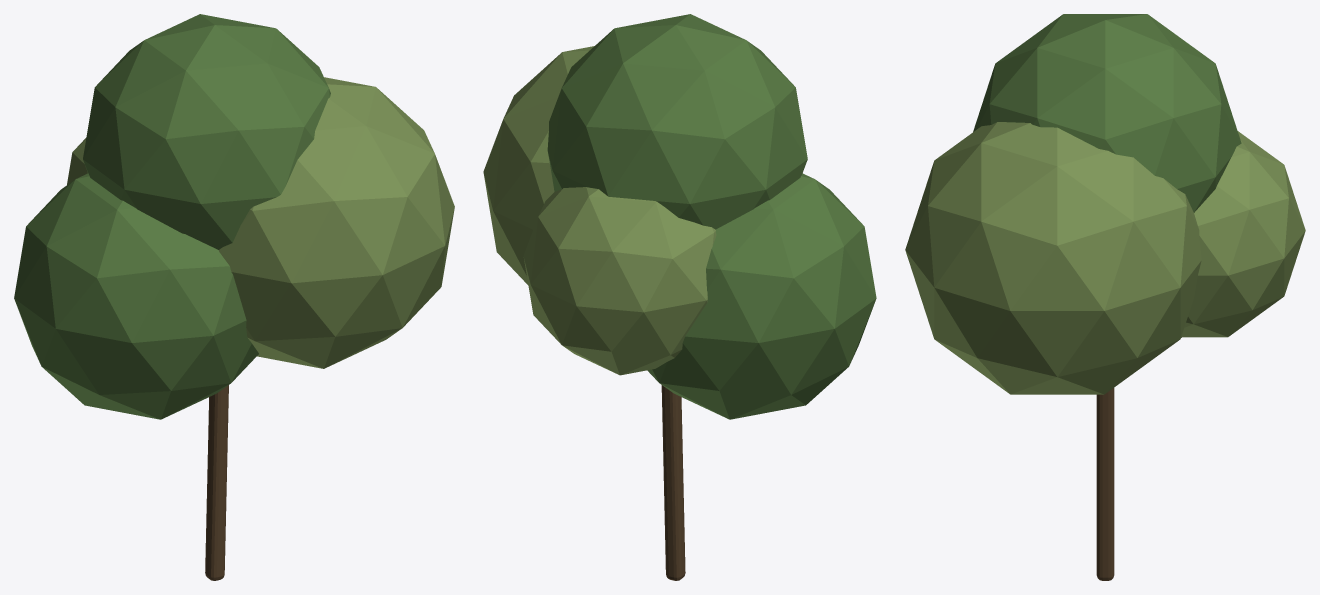
Rendered from tree.glb.
3 renders of one model, left to right at view 1: azimuth 30°, elevation 25°; view 2: azimuth 150°, elevation 25°; view 3: azimuth 270°, elevation 25°, orthographic.
Visible parts, largest first — view 1: Tree_Leaf, Tree_LeafLight, Tree_Bark; view 2: Tree_Leaf, Tree_LeafLight, Tree_Bark; view 3: Tree_LeafLight, Tree_Leaf, Tree_Bark.
Part boxes in pixels (x1,y1,x2,y2): Tree_Leaf: (14, 14, 330, 419); Tree_LeafLight: (67, 77, 454, 368); Tree_Bark: (205, 385, 228, 580); Tree_Leaf: (547, 14, 876, 419); Tree_LeafLight: (483, 46, 716, 375); Tree_Bark: (661, 385, 685, 580); Tree_LeafLight: (905, 122, 1305, 394); Tree_Leaf: (973, 14, 1241, 337); Tree_Bark: (1096, 388, 1114, 580).
Bounding box in the file's own units: 5.42 × 7.7 × 5.
